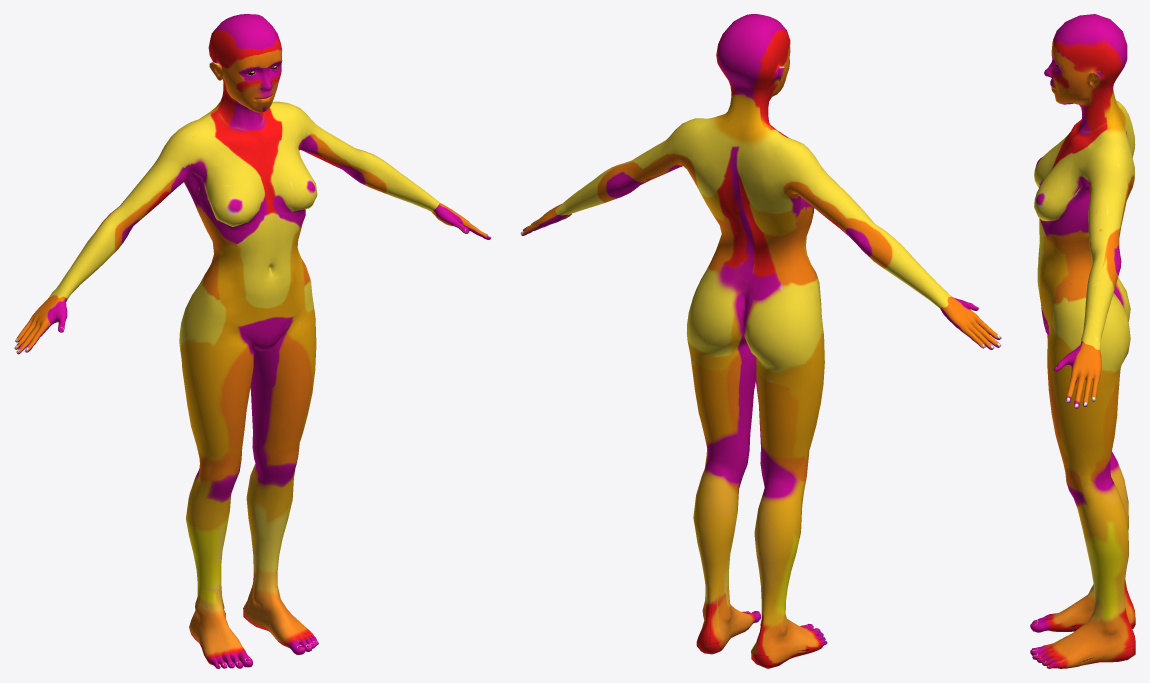
Rendered from femaleModel.obj.
3 renders of one model, left to right at view 1: azimuth 30°, elevation 25°; view 2: azimuth 150°, elevation 25°; view 3: azimuth 270°, elevation 25°, orthographic.
Visible parts, largest first — view 1: Body_M_GeoRndr.001; view 2: Body_M_GeoRndr.001; view 3: Body_M_GeoRndr.001.
Boxes of the visible parts, x1,y1,x2,y2 form: Body_M_GeoRndr.001: [14, 14, 491, 668]; Body_M_GeoRndr.001: [520, 14, 1001, 668]; Body_M_GeoRndr.001: [1030, 14, 1135, 668].
Bounding box in the file's own units: 1.97 × 2.48 × 0.3775.
